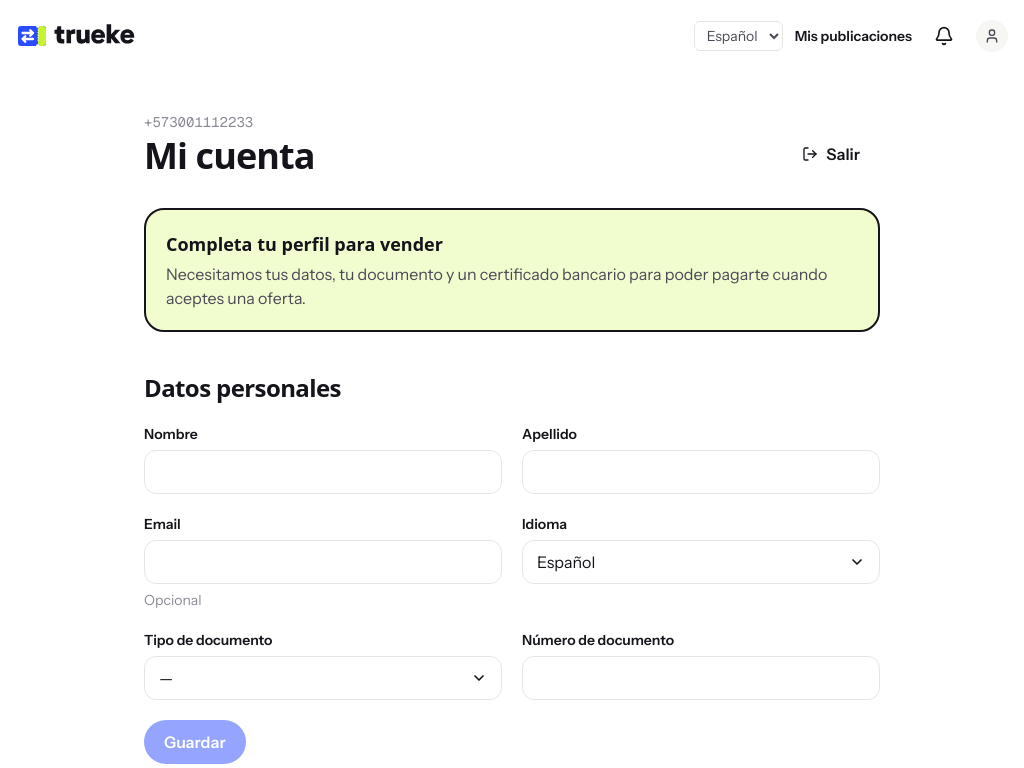
Scenario: mi cuenta › guarda los datos personales
The width and height of the screenshot is (1024, 768).
Expected: the heading "Mi cuenta" is shown, [144,136,315,176]
Type "Laura" into the field labelled "Nombre". click: (323, 472)
box: [144,450,502,494]
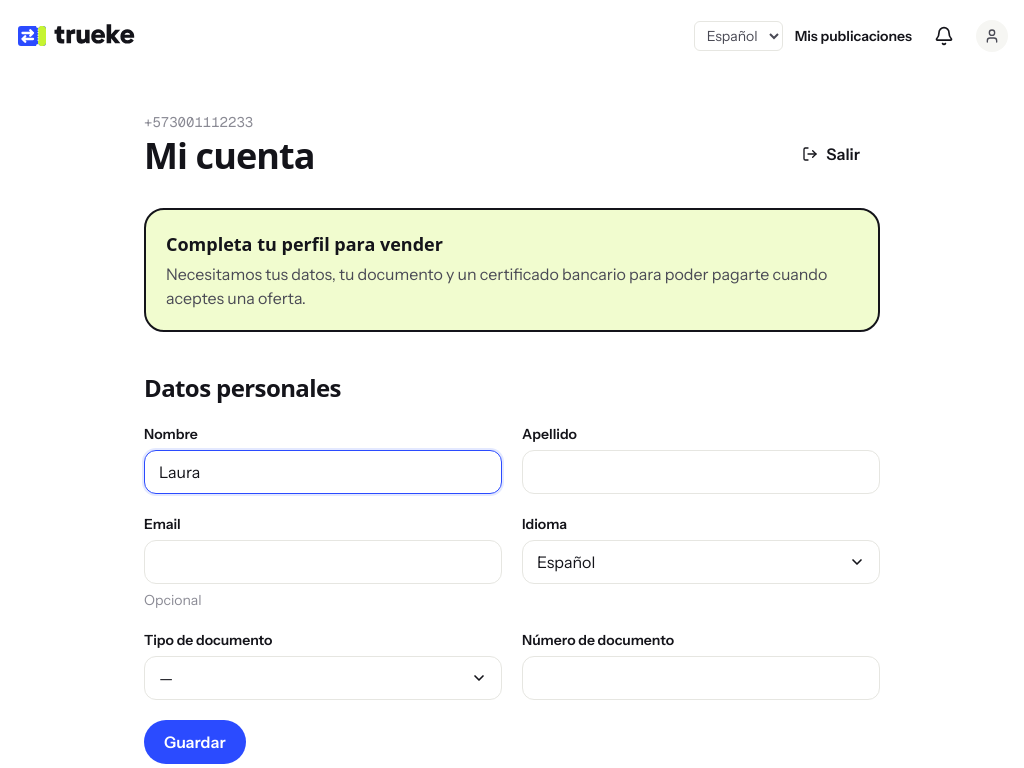
Type "Gómez" into the field labelled "Apellido". click: (701, 472)
box: [522,450,880,494]
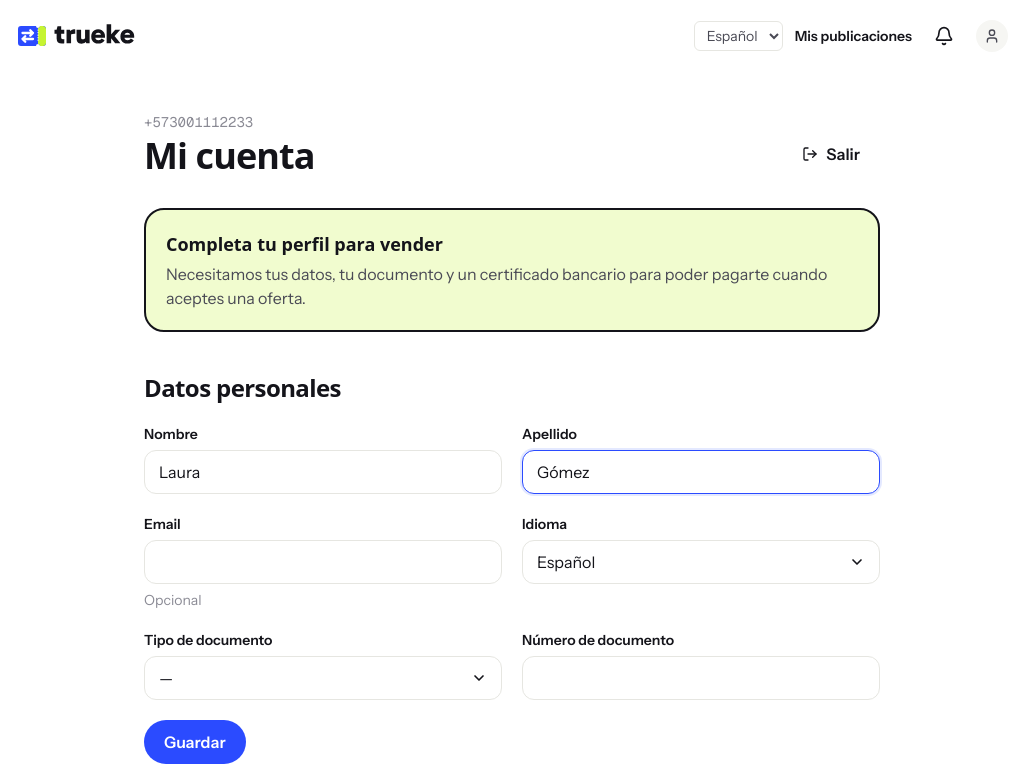
Click the button "Guardar". click: (195, 742)
box: [144,720,246,764]
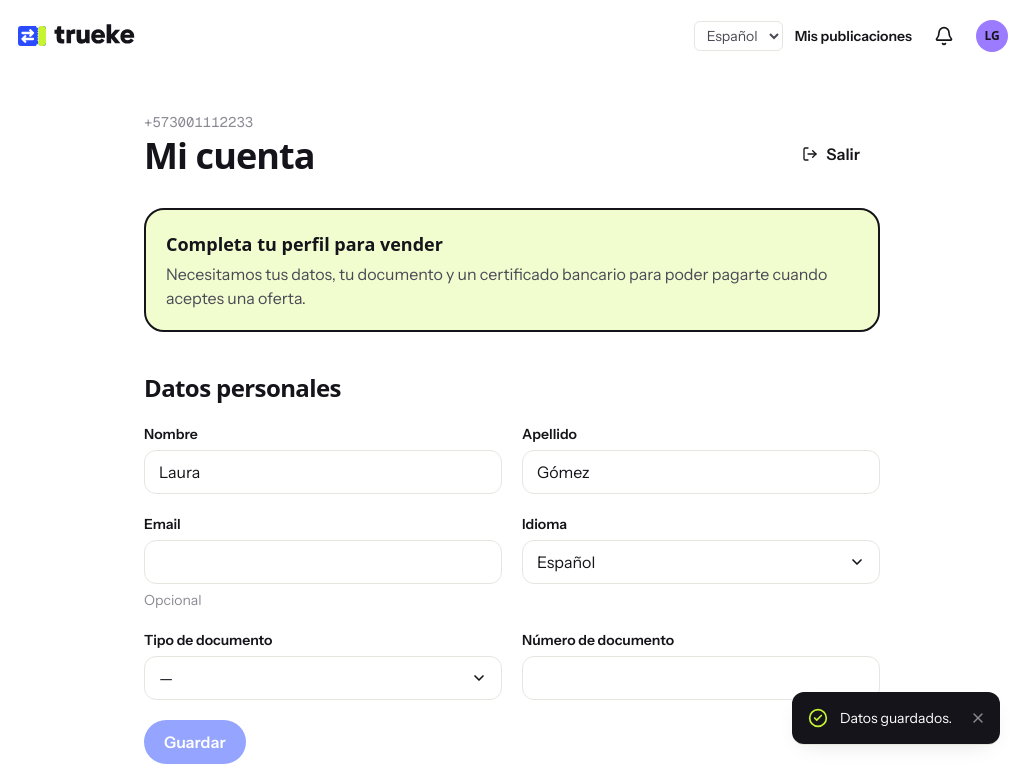
Expected: the text "Datos guardados." is shown, [840,708,952,728]
